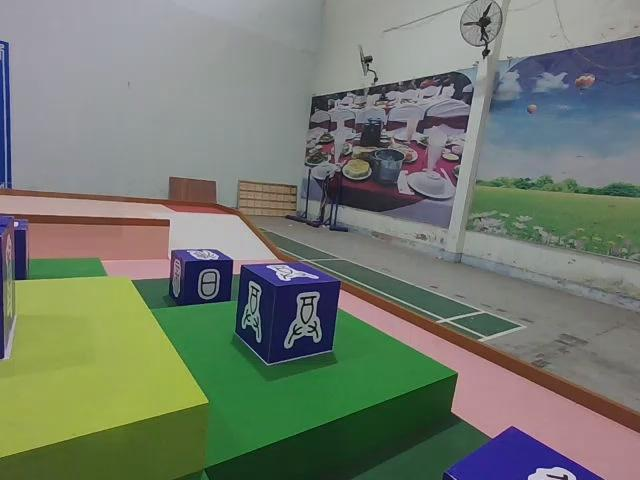R2 Fake Blue: (170, 248, 235, 307)
R2 Real Blue: (235, 263, 341, 368)
